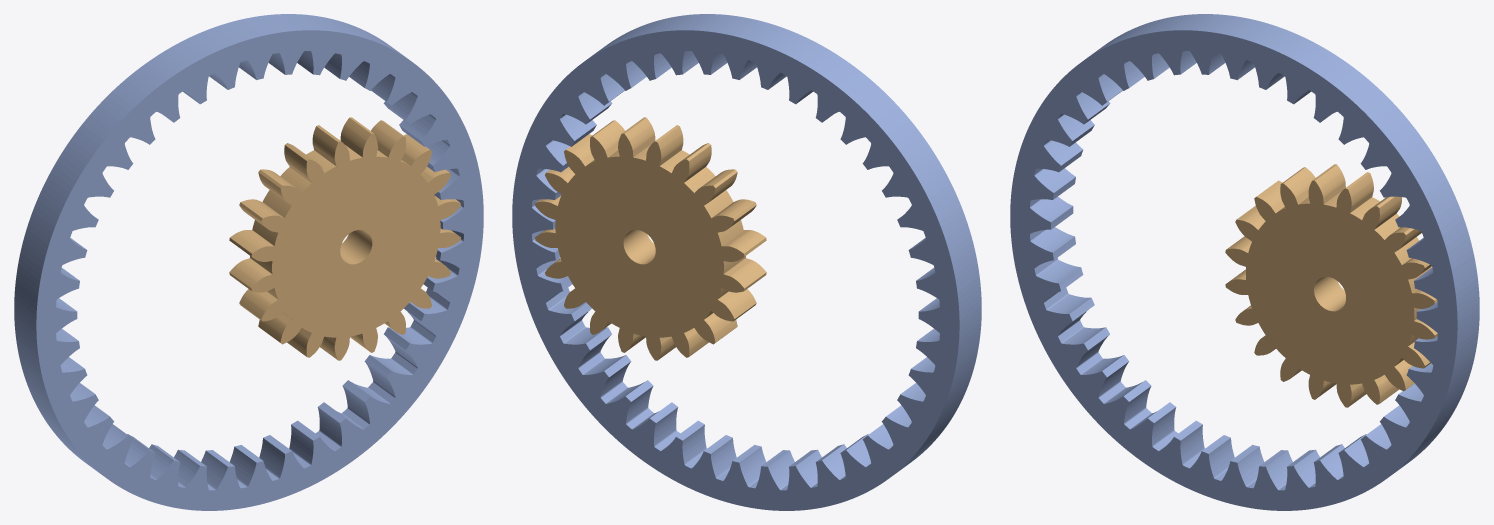
File: ring_gear_mesh_demo.glb
The picture shows the model from 3 angles, left to right: view 1: azimuth 30°, elevation 25°; view 2: azimuth 150°, elevation 25°; view 3: azimuth 330°, elevation 25°; orthographic projection.
Visible parts, largest first — view 1: internal_ring_gear, ring_pinion; view 2: internal_ring_gear, ring_pinion; view 3: internal_ring_gear, ring_pinion.
Boxes of the visible parts, x1,y1,x2,y2 form: internal_ring_gear: (14,14,483,510); ring_pinion: (229,117,460,360); internal_ring_gear: (512,14,981,510); ring_pinion: (535,117,766,360); internal_ring_gear: (1010,14,1479,510); ring_pinion: (1225,164,1437,407).
Bounding box in the file's own units: 69.75 × 69.75 × 6.
